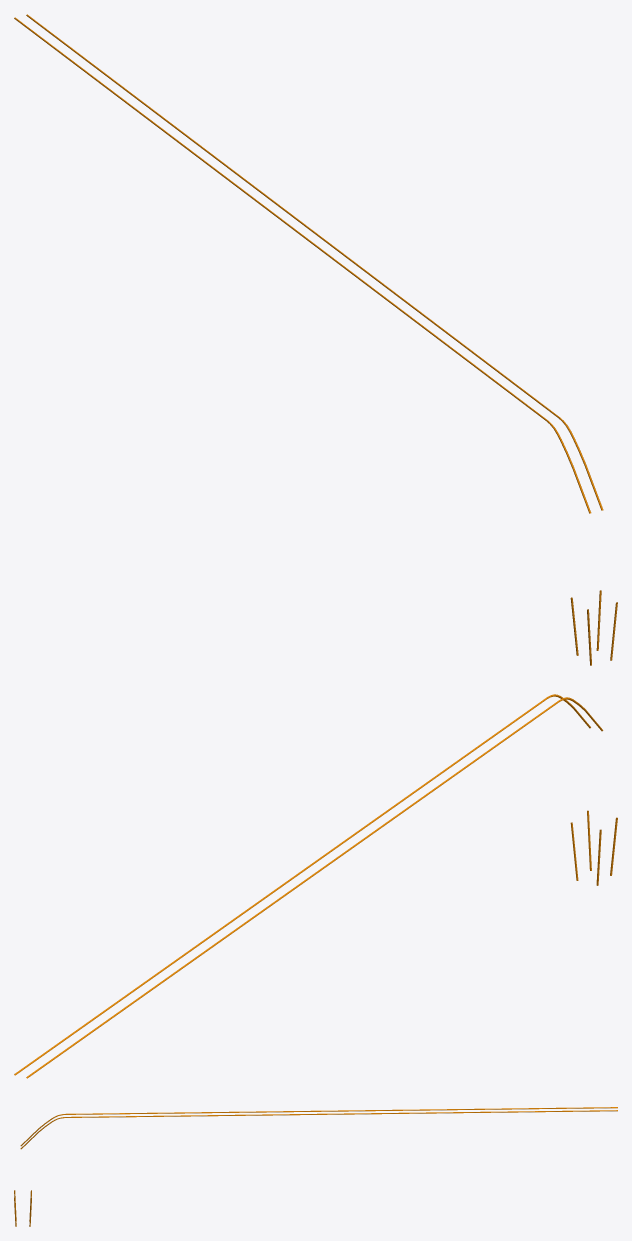
File: MobileCrane_Cable_01a_snaps005.fbx
3 renders of one model, top to bottom at view 1: azimuth 30°, elevation 25°; view 2: azimuth 150°, elevation 25°; view 3: azimuth 270°, elevation 25°, orthographic. The views are drawn at different scales.
Parts seen in each view (by area): view 1: cable1; view 2: cable1; view 3: cable1.
Part boxes in pixels (left/top/right/bottom): cable1: left=14, top=14, right=617, bottom=665; cable1: left=14, top=694, right=617, bottom=1078; cable1: left=14, top=1107, right=617, bottom=1226.
Size of the model in its own units: 30.59 by 209 by 992.
